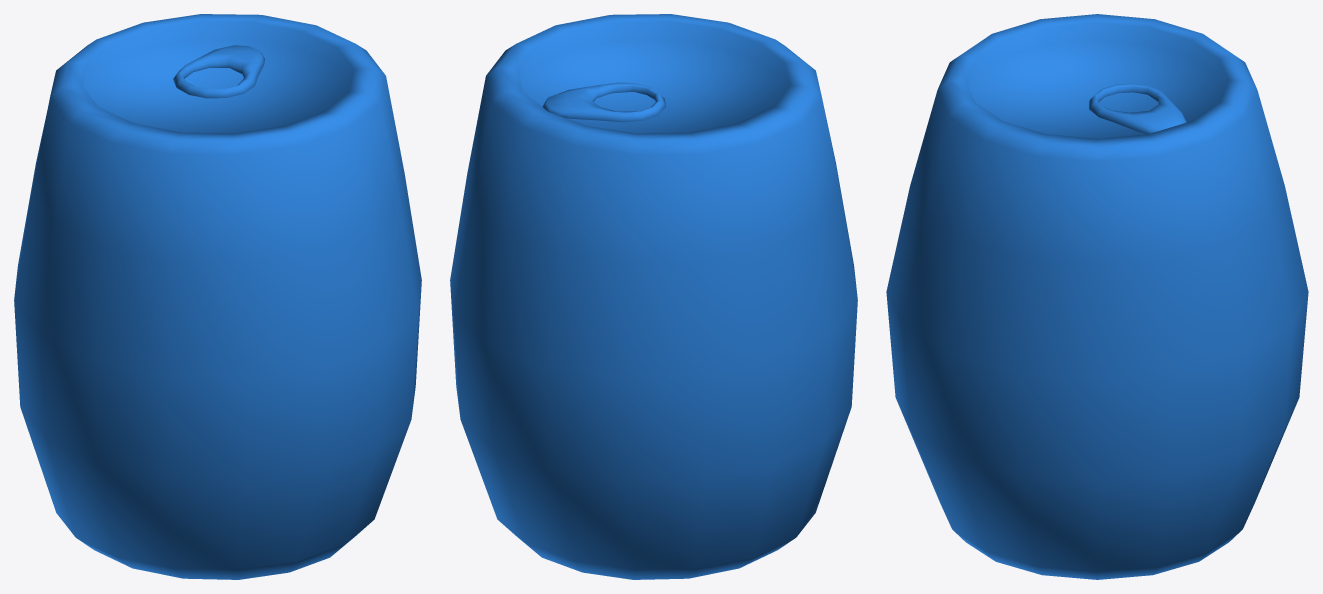
File: S_Can_2.fbx
3 renders of one model, left to right at view 1: azimuth 30°, elevation 25°; view 2: azimuth 150°, elevation 25°; view 3: azimuth 270°, elevation 25°, orthographic.
Parts seen in each view (by area): view 1: Cans_2_low; view 2: Cans_2_low; view 3: Cans_2_low.
Part boxes in pixels (<box>): Cans_2_low: <box>14,14,421,579</box>; Cans_2_low: <box>450,14,857,579</box>; Cans_2_low: <box>886,14,1308,579</box>.
Bounding box in the file's own units: 0.1227 × 0.147 × 0.128.
